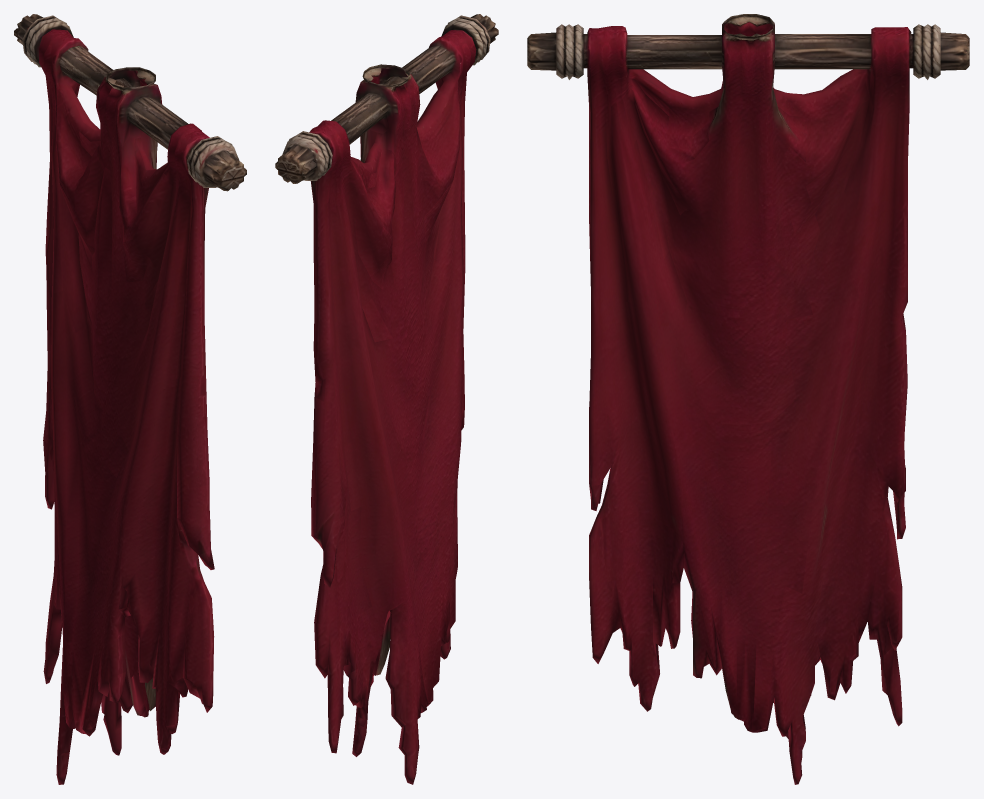
Rendered from SM_EnvCP_BannerCloth.fbx.
3 renders of one model, left to right at view 1: azimuth 30°, elevation 25°; view 2: azimuth 150°, elevation 25°; view 3: azimuth 270°, elevation 25°, orthographic. The views are drawn at different scales.
Visible parts, largest first — view 1: SM_EnvCP_BannerCloth; view 2: SM_EnvCP_BannerCloth; view 3: SM_EnvCP_BannerCloth.
Boxes of the visible parts, x1,y1,x2,y2 form: SM_EnvCP_BannerCloth: (14,14,246,784); SM_EnvCP_BannerCloth: (275,14,498,784); SM_EnvCP_BannerCloth: (527,14,969,784).
Bounding box in the file's own units: 12.45 × 57.06 × 110.
